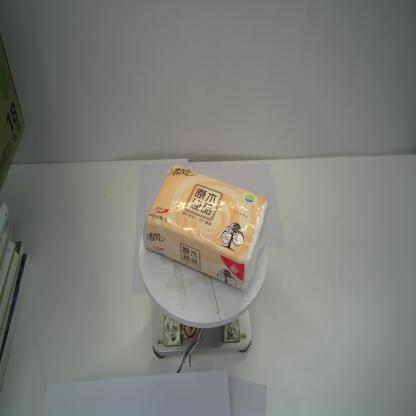Tissue: (142, 162, 270, 291)
